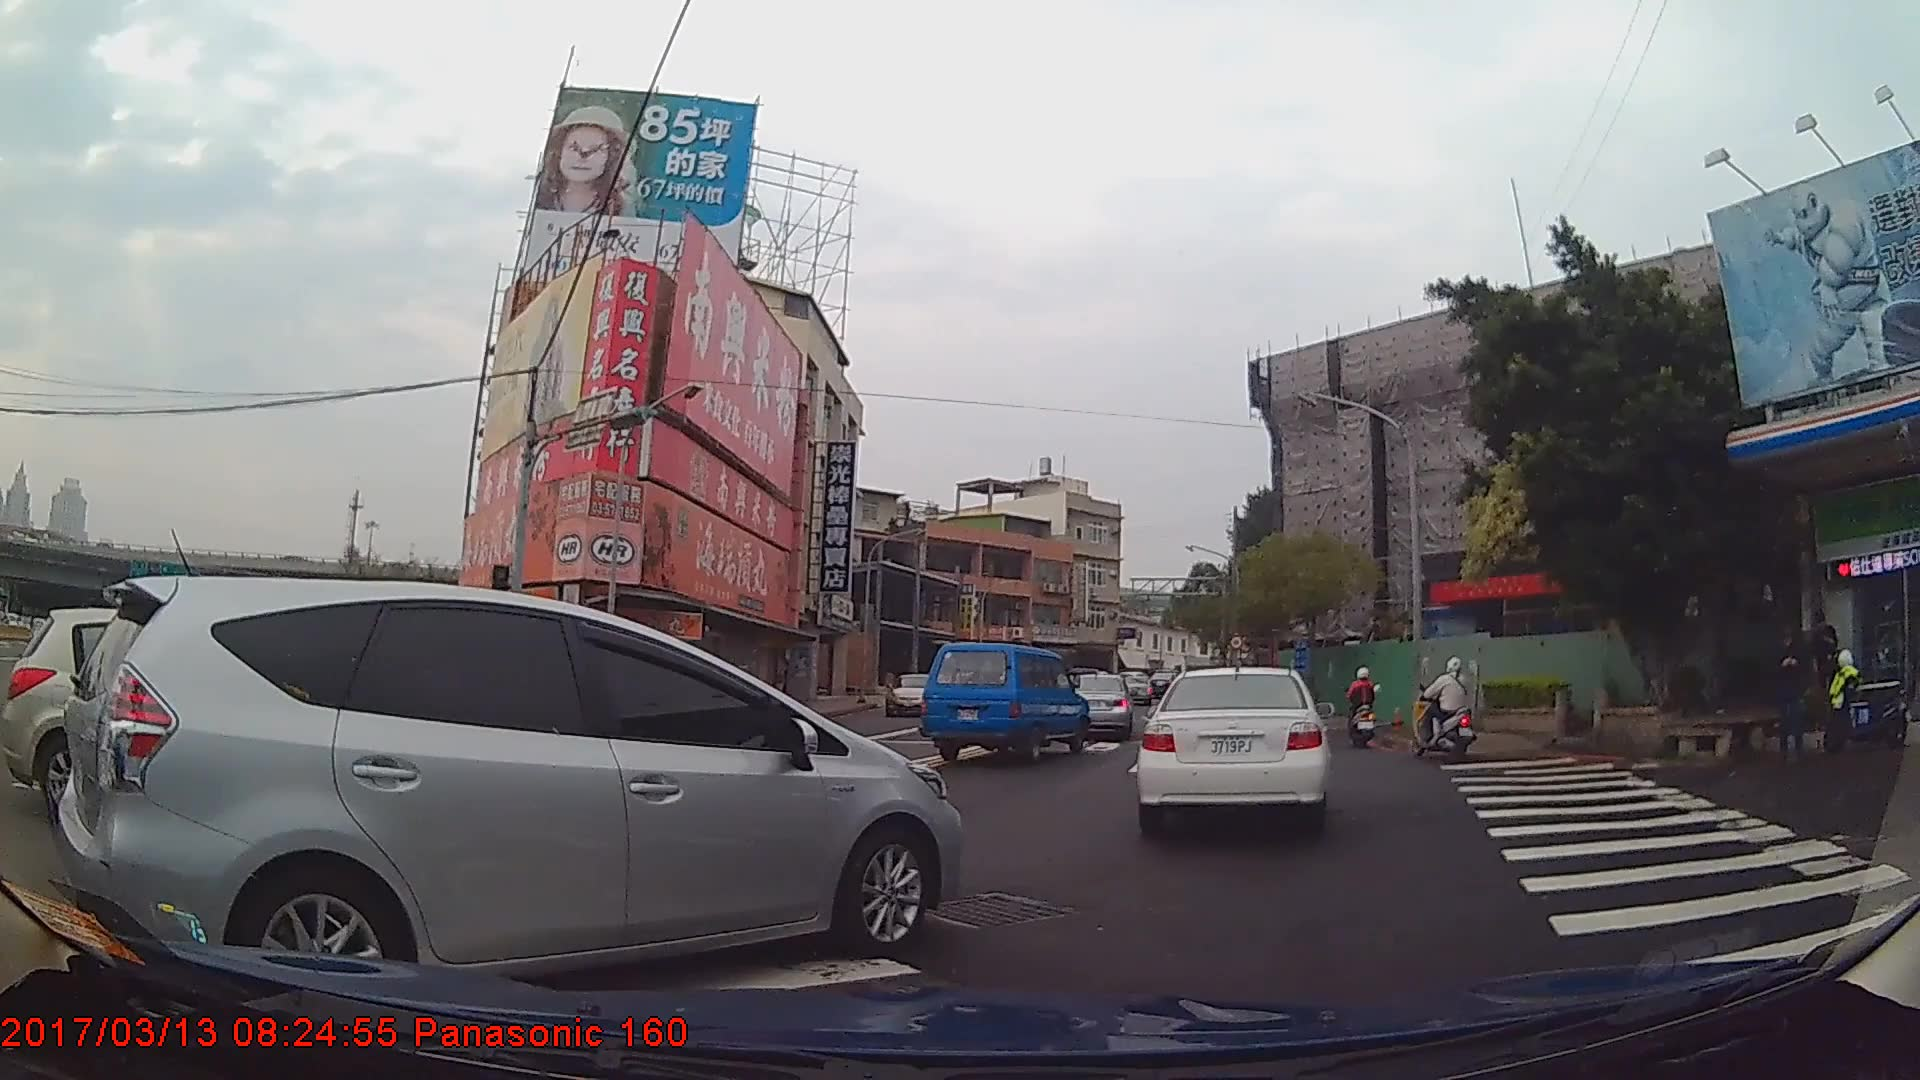pedestrian: (1770, 633, 1815, 756), (1800, 609, 1837, 718)
rider: (1412, 656, 1476, 755), (1347, 665, 1380, 746)
vehicle: (55, 573, 970, 1004), (1135, 668, 1330, 840), (917, 642, 1089, 763), (1061, 671, 1135, 739), (884, 672, 943, 720)
